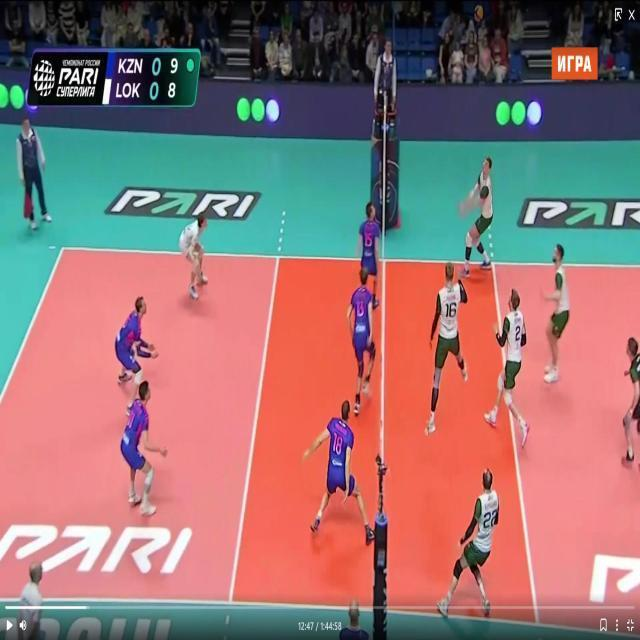volleyball: (474, 5, 484, 21)
